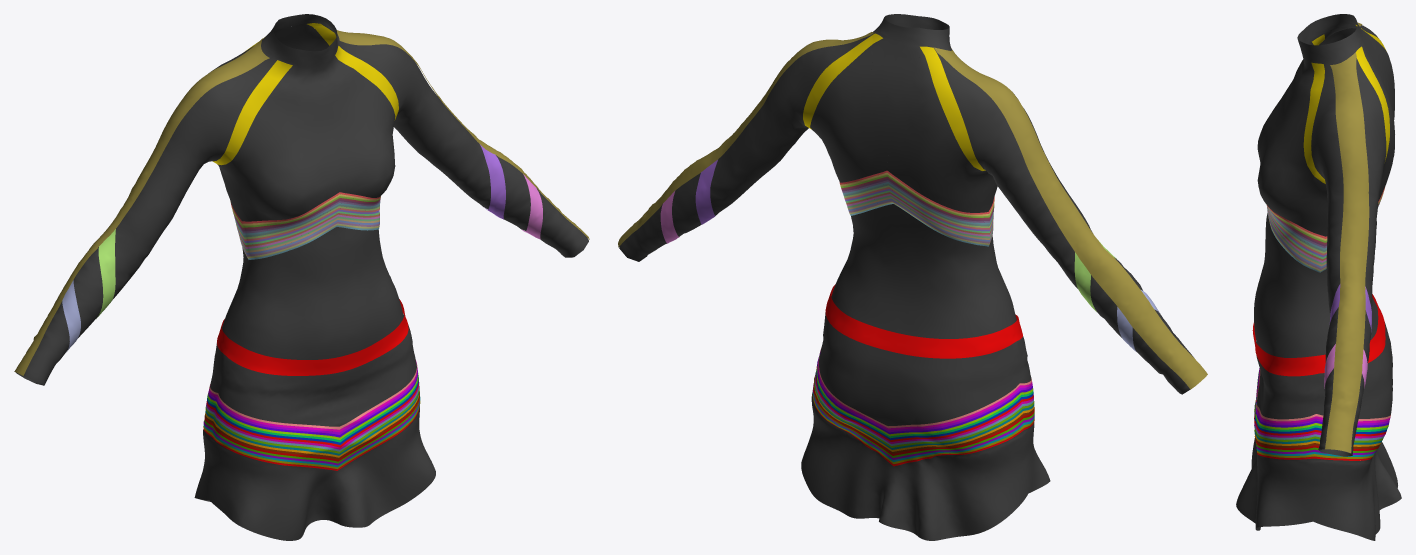
The model's file is modelReflectiveV1.1.glb.
3 views of the same model, side by side, from view 1: azimuth 30°, elevation 25°; view 2: azimuth 150°, elevation 25°; view 3: azimuth 270°, elevation 25° (orthographic). The views are drawn at different scales.
Parts seen in each view (by area): view 1: Bronwyn_shirt_changeable_group_01_front, Bronwyn_shirt_changeable_group_03_sleeves, Bronwyn_skirt_changeable_group_03_bottom, Bronwyn_skirt_changeable_group_02_middle, Bronwyn_shirt_braid_02_arms, Bronwyn_skirt_changeable_group_01_waist, Bronwyn_shirt_changeable_group_02_shoulders, Bronwyn_shirt_changeable_group_04_collar, Bronwyn_shirt_changeable_group_05_back, Bronwyn_shirt_braid_05_rightB, Bronwyn_shirt_braid_04_leftB, Bronwyn_shirt_braid_06_rightA (+1 smaller); view 2: Bronwyn_shirt_changeable_group_05_back, Bronwyn_shirt_changeable_group_03_sleeves, Bronwyn_skirt_changeable_group_03_bottom, Bronwyn_skirt_changeable_group_02_middle, Bronwyn_shirt_braid_02_arms, Bronwyn_skirt_changeable_group_01_waist, Bronwyn_shirt_changeable_group_06_cutout, Bronwyn_shirt_changeable_group_02_shoulders, Bronwyn_shirt_changeable_group_04_collar, Bronwyn_shirt_braid_04_leftB, Bronwyn_shirt_changeable_group_01_front; view 3: Bronwyn_shirt_changeable_group_01_front, Bronwyn_shirt_braid_02_arms, Bronwyn_skirt_changeable_group_03_bottom, Bronwyn_shirt_changeable_group_03_sleeves, Bronwyn_skirt_changeable_group_02_middle, Bronwyn_shirt_changeable_group_05_back, Bronwyn_shirt_changeable_group_04_collar, Bronwyn_shirt_changeable_group_02_shoulders, Bronwyn_skirt_changeable_group_01_waist, Bronwyn_shirt_changeable_group_06_cutout, Bronwyn_shirt_braid_03_leftA, Bronwyn_shirt_braid_04_leftB (+20 smaller).
Part boxes in pixels (x1,y1,x2,y2): Bronwyn_shirt_changeable_group_01_front: (218,56,403,374); Bronwyn_shirt_changeable_group_03_sleeves: (16,24,588,385); Bronwyn_skirt_changeable_group_03_bottom: (194,407,435,540); Bronwyn_skirt_changeable_group_02_middle: (210,314,416,426); Bronwyn_shirt_braid_02_arms: (14,30,589,375); Bronwyn_skirt_changeable_group_01_waist: (217,299,408,375); Bronwyn_shirt_changeable_group_02_shoulders: (213,23,398,165); Bronwyn_shirt_changeable_group_04_collar: (261,14,339,67); Bronwyn_shirt_changeable_group_05_back: (217,24,329,356); Bronwyn_shirt_braid_05_rightB: (96,229,115,318); Bronwyn_shirt_braid_04_leftB: (480,144,505,219); Bronwyn_shirt_braid_06_rightA: (62,280,80,352); Bronwyn_shirt_changeable_group_05_back: (810,38,1010,358); Bronwyn_shirt_changeable_group_03_sleeves: (619,33,1193,394); Bronwyn_skirt_changeable_group_03_bottom: (801,392,1050,540); Bronwyn_skirt_changeable_group_02_middle: (819,312,1031,425); Bronwyn_shirt_braid_02_arms: (618,32,1207,389); Bronwyn_skirt_changeable_group_01_waist: (825,284,1022,358); Bronwyn_shirt_changeable_group_06_cutout: (871,38,919,165); Bronwyn_shirt_changeable_group_02_shoulders: (803,33,985,170); Bronwyn_shirt_changeable_group_04_collar: (873,14,951,50); Bronwyn_shirt_braid_04_leftB: (695,160,717,224); Bronwyn_shirt_changeable_group_01_front: (988,176,1016,324); Bronwyn_shirt_changeable_group_01_front: (1254,42,1327,376); Bronwyn_shirt_braid_02_arms: (1325,22,1369,453); Bronwyn_skirt_changeable_group_03_bottom: (1236,438,1401,540); Bronwyn_shirt_changeable_group_03_sleeves: (1311,24,1386,456); Bronwyn_skirt_changeable_group_02_middle: (1256,322,1392,446); Bronwyn_shirt_changeable_group_05_back: (1317,29,1394,355); Bronwyn_shirt_changeable_group_04_collar: (1297,14,1363,65); Bronwyn_shirt_changeable_group_02_shoulders: (1303,25,1389,183); Bronwyn_skirt_changeable_group_01_waist: (1252,294,1385,376); Bronwyn_shirt_changeable_group_06_cutout: (1361,29,1393,115); Bronwyn_shirt_braid_03_leftA: (1324,344,1367,388); Bronwyn_shirt_braid_04_leftB: (1329,284,1371,332).
Size of the model in its own units: 42.28 by 34.23 by 10.53.
